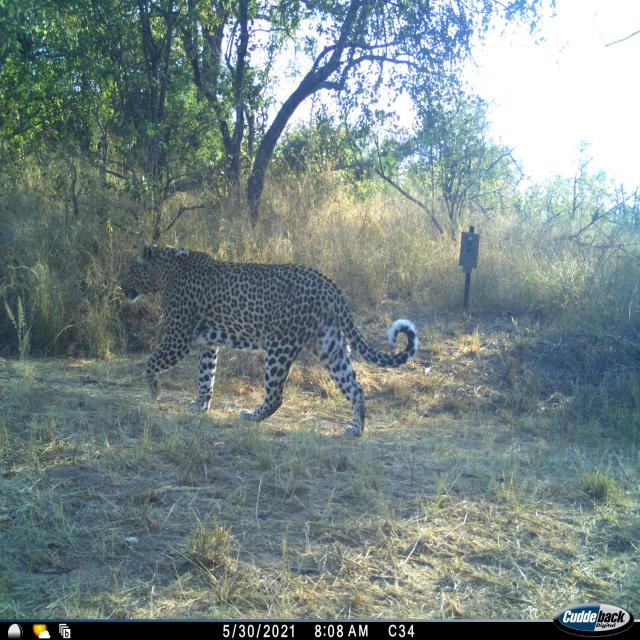Leopard: (129, 233, 420, 449)
